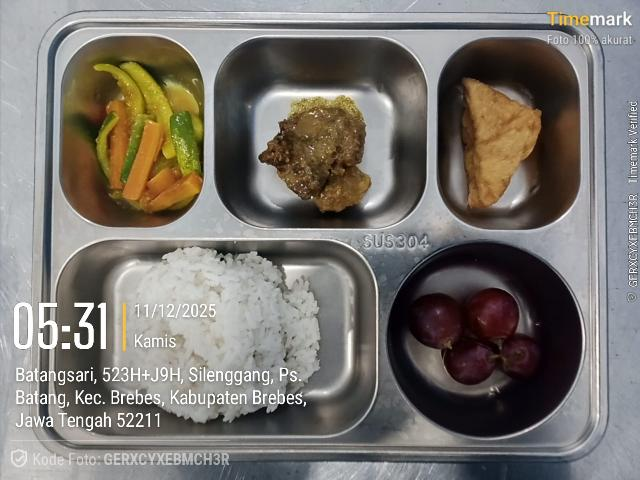ayam: (259, 108, 371, 211)
buah: (408, 288, 541, 385)
nasi: (127, 247, 320, 422)
sayur: (88, 62, 203, 213), (148, 173, 202, 212)
tahu: (462, 78, 541, 207)
